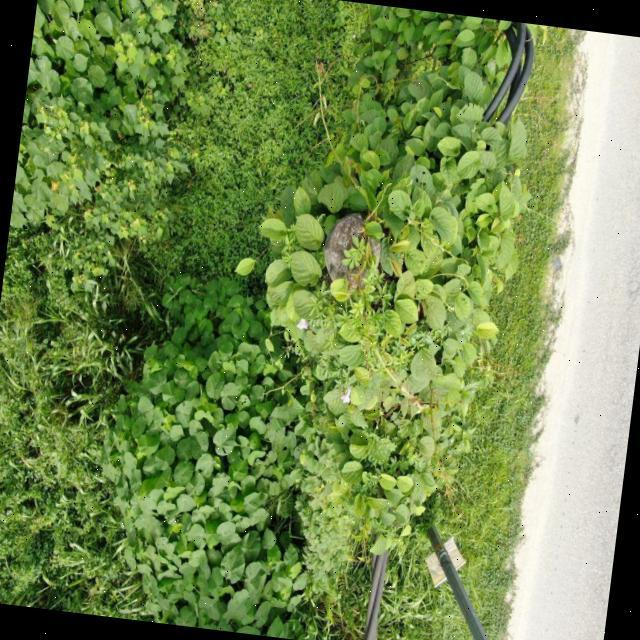critical vegetation: (213, 38, 548, 579)
